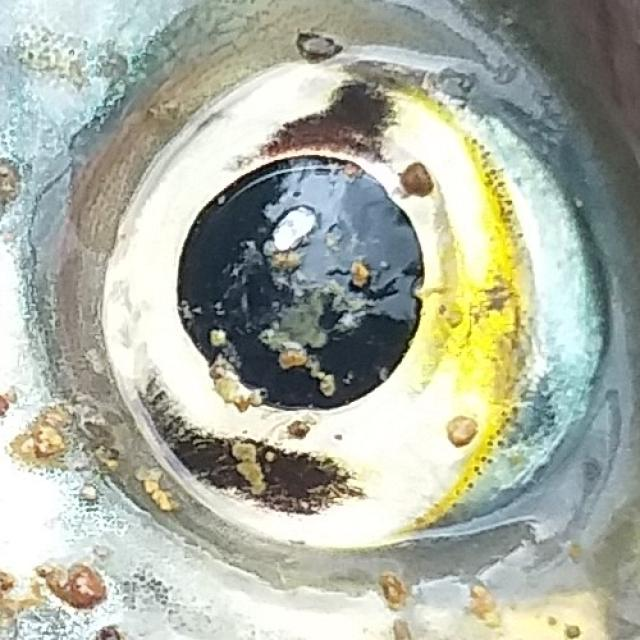Non-Fresh: (36, 17, 628, 585)
